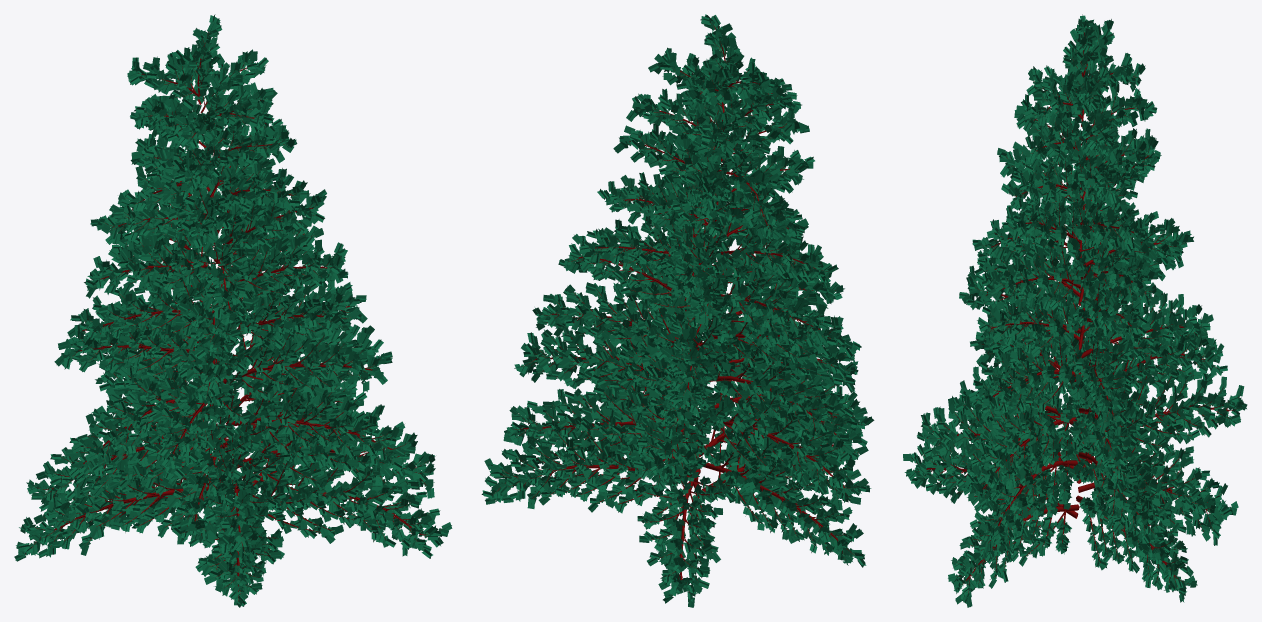
The model's file is Busch1 Neu.FBX.
3 renders of one model, left to right at view 1: azimuth 30°, elevation 25°; view 2: azimuth 150°, elevation 25°; view 3: azimuth 270°, elevation 25°, orthographic. The views are drawn at different scales.
Visible parts, largest first — view 1: Foliage010; view 2: Foliage010; view 3: Foliage010.
Part boxes in pixels (x1,y1,x2,y2): Foliage010: [14, 14, 452, 607]; Foliage010: [481, 14, 874, 607]; Foliage010: [903, 14, 1247, 607].
Size of the model in its own units: 229 by 326 by 189.
